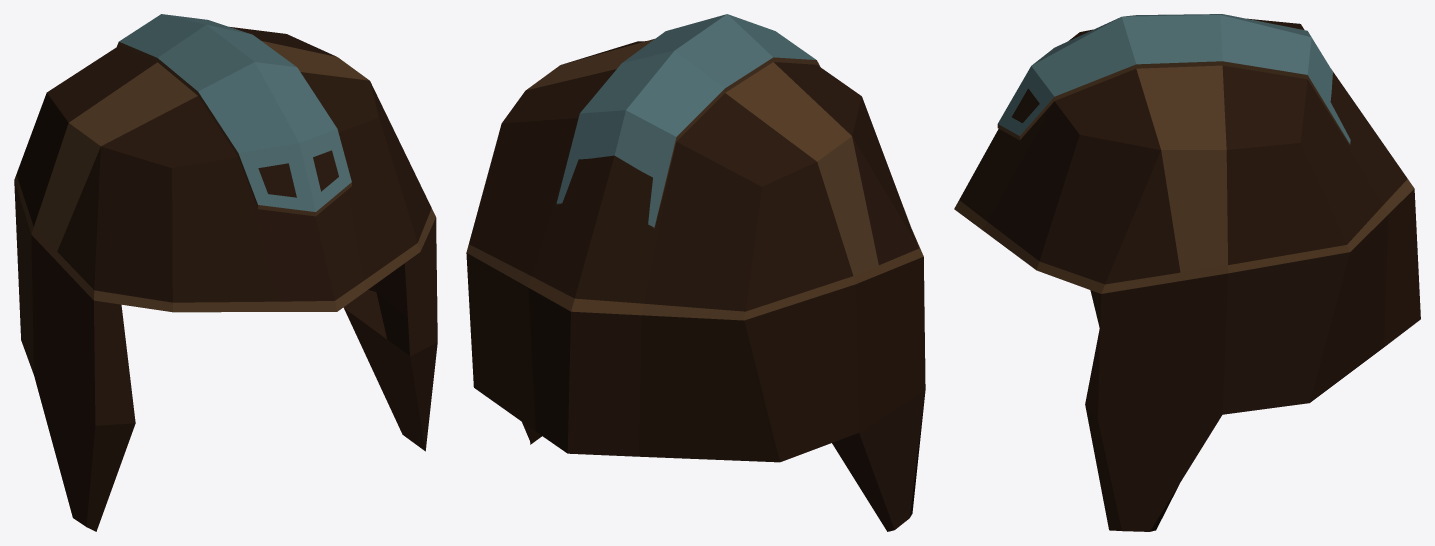
The model's file is LeatherHelm.fbx.
3 renders of one model, left to right at view 1: azimuth 30°, elevation 25°; view 2: azimuth 150°, elevation 25°; view 3: azimuth 270°, elevation 25°, orthographic. The views are drawn at different scales.
Visible parts, largest first — view 1: Head; view 2: Head; view 3: Head.
Part boxes in pixels (<box>): Head: <box>14,14,437,531</box>; Head: <box>466,14,925,531</box>; Head: <box>954,14,1420,531</box>.
Size of the model in its own units: 195 by 232 by 226.
